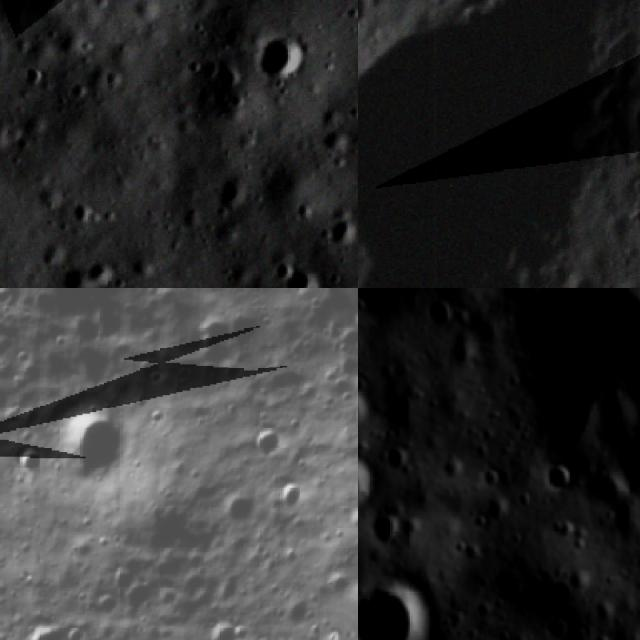crater: (358, 0, 620, 288), (507, 288, 640, 457), (26, 384, 146, 502), (241, 14, 317, 93), (358, 577, 439, 640), (245, 249, 339, 288), (44, 246, 128, 288), (235, 415, 296, 471), (55, 299, 113, 357), (358, 288, 465, 317), (311, 192, 358, 257), (212, 478, 266, 534), (7, 604, 88, 640), (273, 588, 320, 636), (5, 439, 48, 487), (601, 21, 640, 73), (193, 606, 248, 640), (588, 468, 629, 510), (358, 450, 380, 521), (367, 514, 404, 554), (620, 441, 640, 512), (542, 460, 577, 500), (384, 442, 420, 479), (320, 568, 356, 604), (450, 338, 481, 373), (358, 383, 377, 440), (622, 86, 640, 145), (427, 299, 458, 332), (12, 0, 74, 16), (457, 538, 488, 570), (591, 597, 620, 629), (478, 463, 507, 494), (541, 614, 574, 640), (552, 580, 578, 609), (358, 0, 372, 40), (592, 631, 618, 640), (557, 634, 579, 640)
